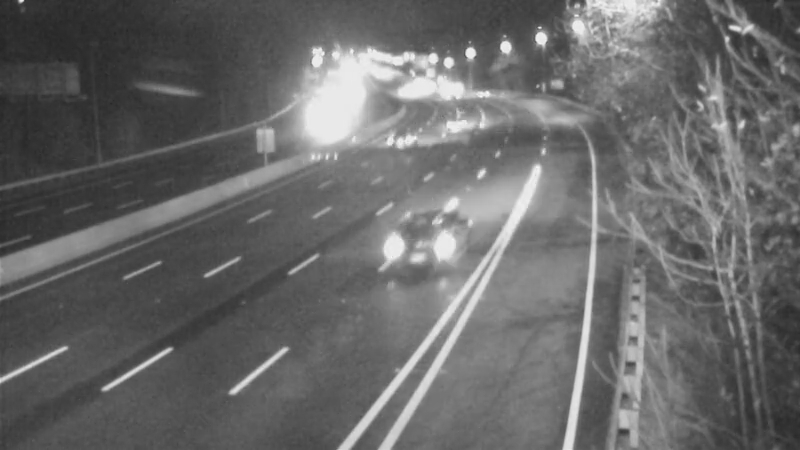vehicle: (390, 191, 470, 271), (458, 68, 508, 118), (434, 95, 484, 145), (380, 109, 430, 159), (293, 90, 343, 140)
